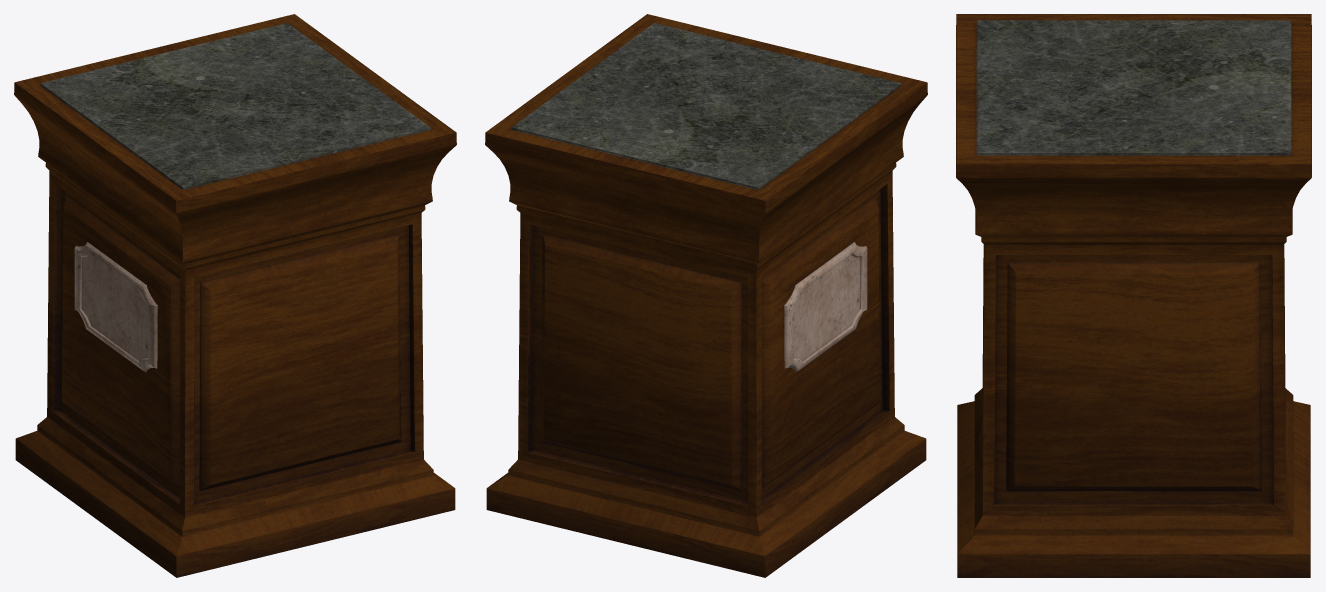
The model's file is MuseumPedestals.fbx.
The picture shows the model from 3 angles, left to right: view 1: azimuth 30°, elevation 25°; view 2: azimuth 150°, elevation 25°; view 3: azimuth 270°, elevation 25°; orthographic projection. The views are drawn at different scales.
Visible parts, largest first — view 1: MuseumPlinthe01; view 2: MuseumPlinthe01; view 3: MuseumPlinthe01.
Part boxes in pixels (left/top/right/bottom): MuseumPlinthe01: left=14, top=14, right=456, bottom=577; MuseumPlinthe01: left=485, top=14, right=927, bottom=577; MuseumPlinthe01: left=956, top=14, right=1311, bottom=577.
Bounding box in the file's own units: 145 × 187 × 145.
